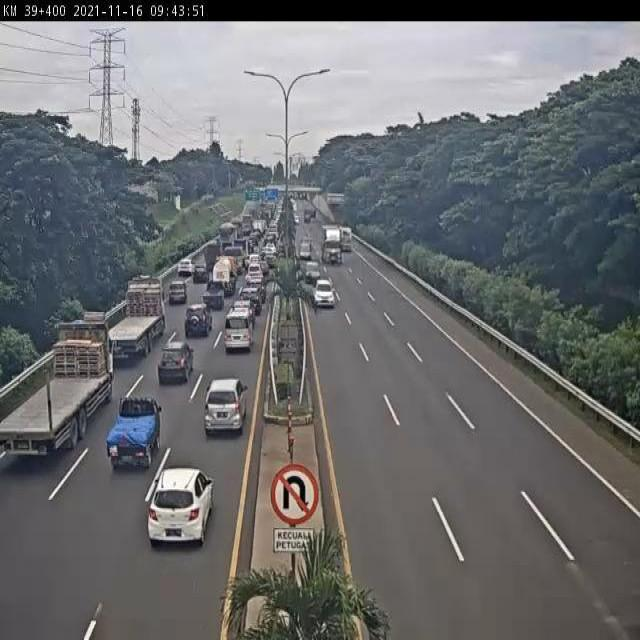car: (148, 468, 214, 548), (108, 397, 161, 476), (205, 379, 248, 437), (158, 343, 196, 384), (223, 314, 253, 354), (183, 306, 213, 342), (201, 276, 225, 309), (230, 300, 254, 333), (312, 277, 334, 307), (240, 287, 262, 313), (167, 284, 187, 308), (248, 277, 268, 299), (189, 265, 206, 287), (246, 265, 264, 284), (305, 262, 319, 282), (177, 260, 193, 277), (248, 254, 264, 266), (301, 242, 310, 258)
small truck: (202, 242, 223, 270), (224, 246, 243, 274)
truck-l-: (0, 321, 114, 452), (105, 276, 168, 359), (322, 227, 342, 261)
truck-m-: (212, 258, 235, 298), (217, 223, 237, 253)
